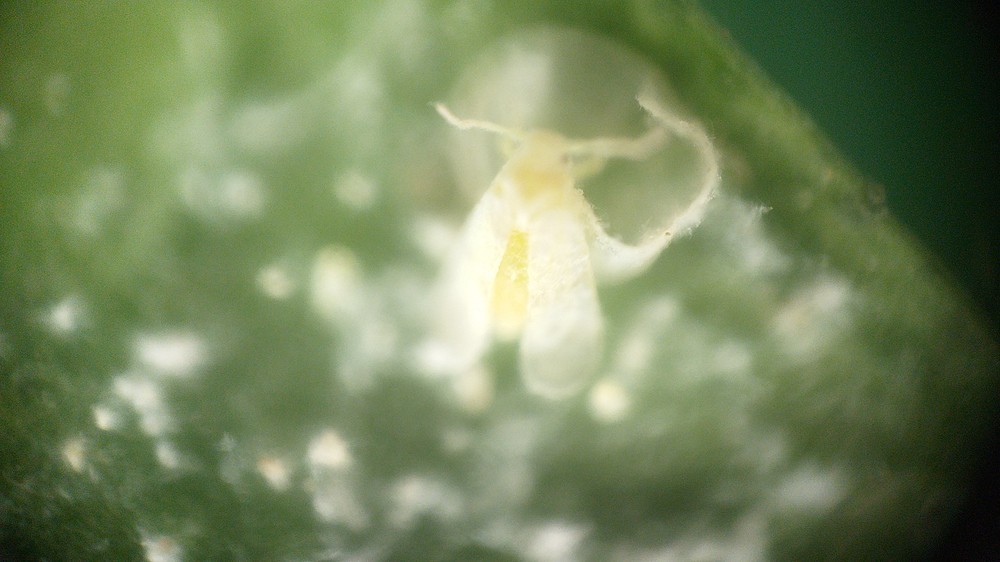Mosca Blanca: (371, 92, 679, 414)
